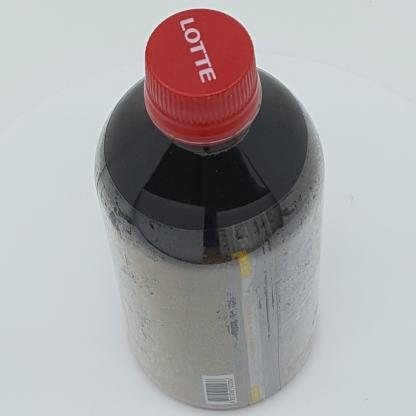-------------------500ML: (94, 8, 325, 412)
